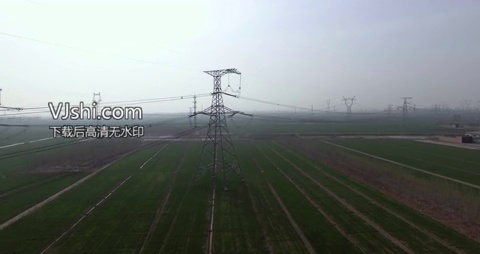tower_body: (194, 61, 251, 188)
tower_foot: (193, 156, 247, 187)
tower_head: (199, 63, 243, 78)
